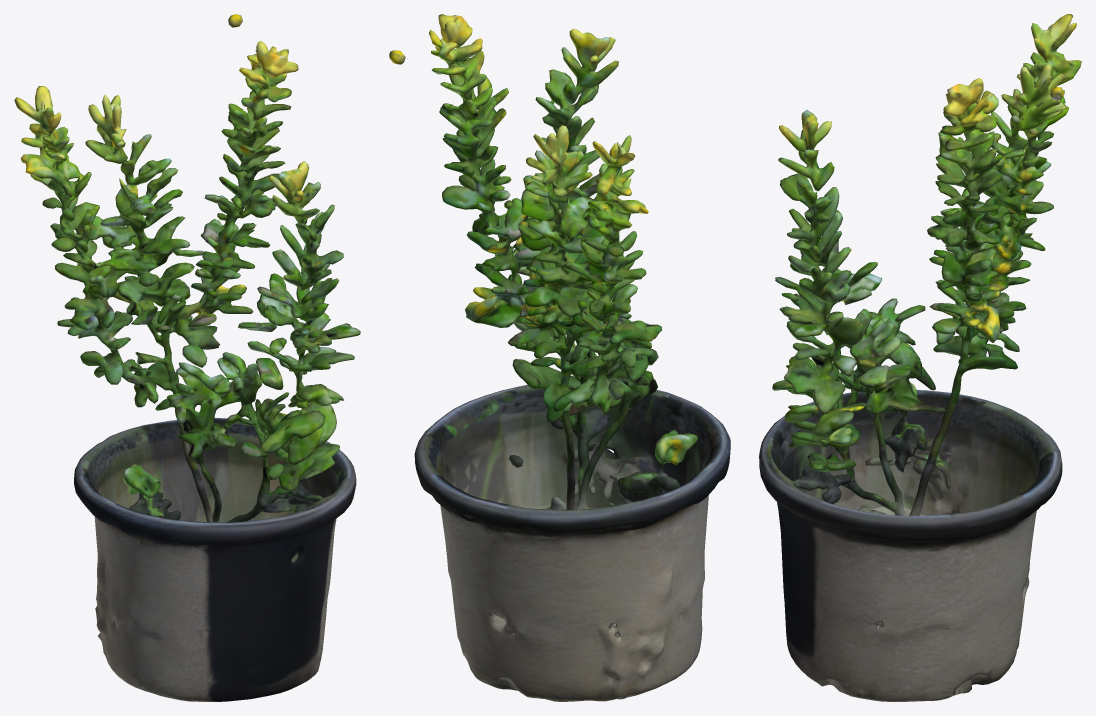
File: CLIMBER0035.gltf
The picture shows the model from 3 angles, left to right: view 1: azimuth 30°, elevation 25°; view 2: azimuth 150°, elevation 25°; view 3: azimuth 270°, elevation 25°; orthographic projection. The views are drawn at different scales.
Parts seen in each view (by area): view 1: Mesh_0; view 2: Mesh_0; view 3: Mesh_0.
Part boxes in pixels (bbox=[...]): Mesh_0: bbox=[14, 14, 360, 701]; Mesh_0: bbox=[389, 14, 730, 701]; Mesh_0: bbox=[759, 14, 1081, 701].
Bounding box in the file's own units: 0.9001 × 1.99 × 0.9373.
1 material, 1 textured.
